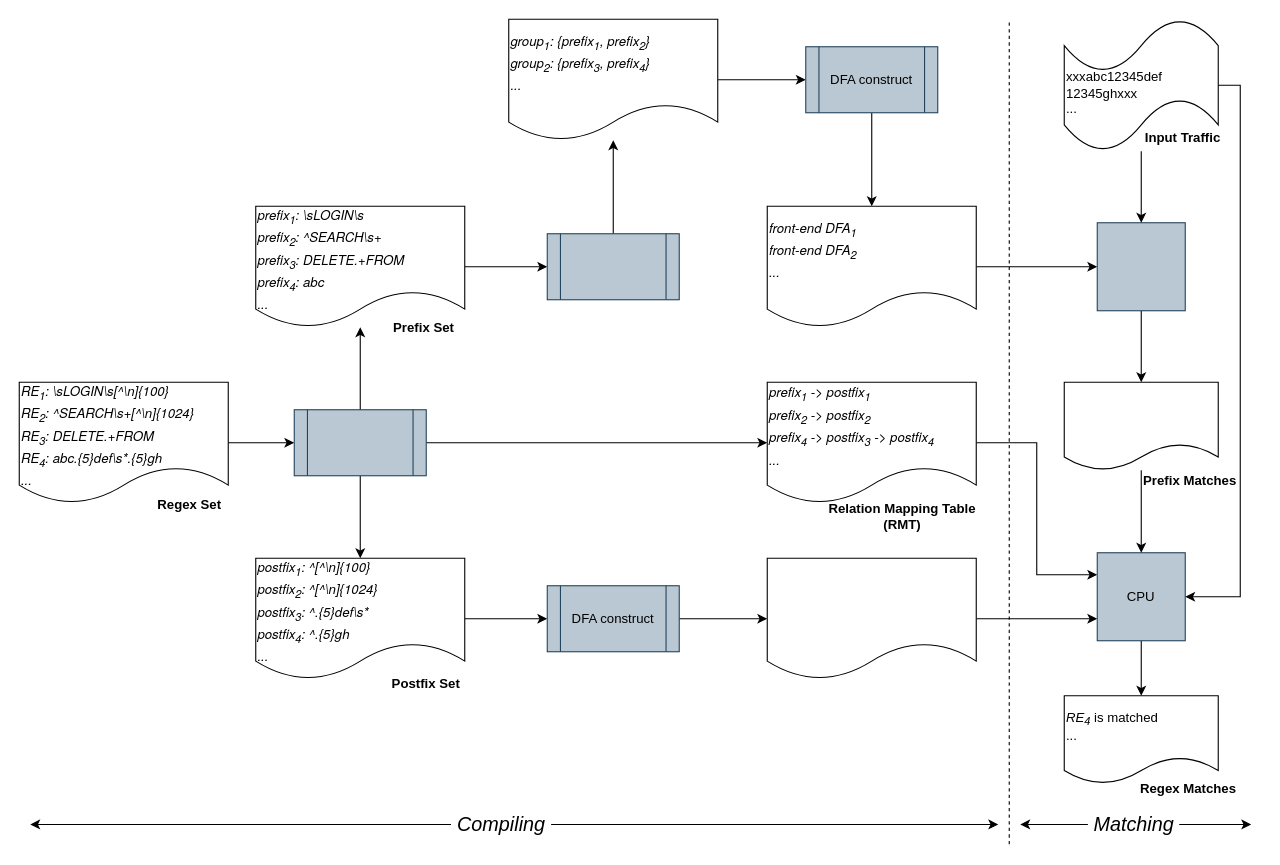
This 1280x865 diagram has some shape labels left out. Here are the shapes that lost their labels. From the top down, the box of each, then its label:
(546, 233, 679, 300): regex grouping
(1096, 222, 1185, 311): FPGA
(293, 409, 426, 476): regex decomposition
(1063, 381, 1218, 470): prefix 4 ( abc ) is matched ...
(766, 557, 976, 679): back-end DFA 1 back-end DFA 2 back-end DFA 3 back-end DFA 4 ...
